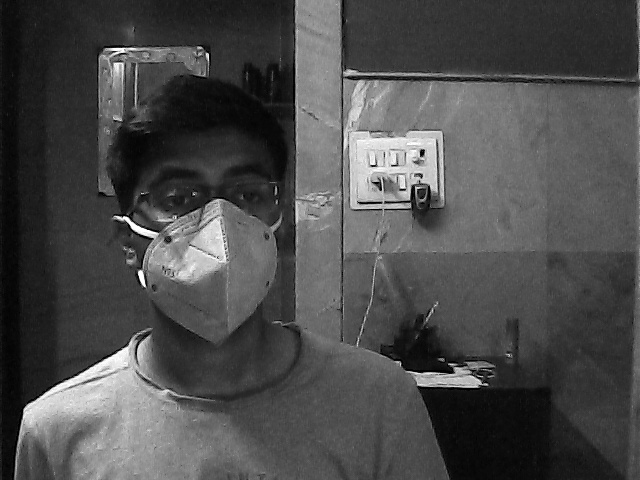mask: (130, 151, 286, 341)
